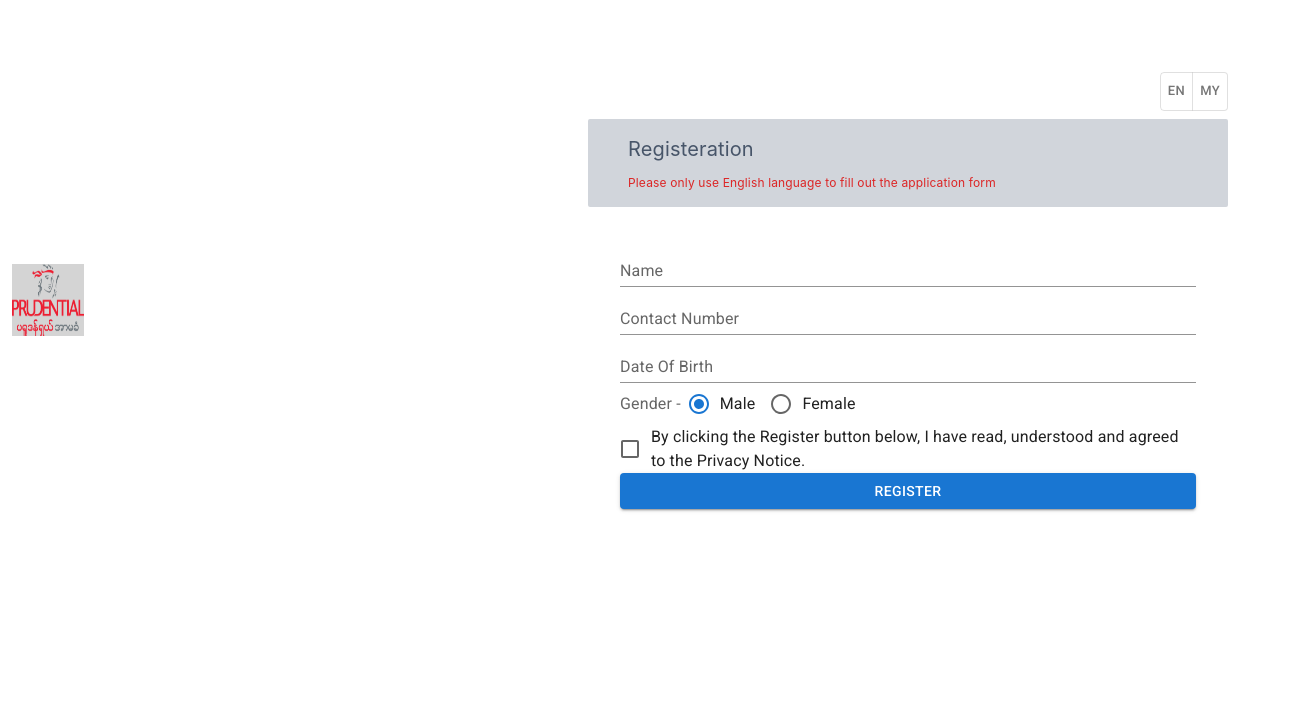
Test: Register › contactNumber should be at least 9 digits on form submit
In the field labelled "Contact Number": point(908, 319) [620,303,1196,335], type "95044879"
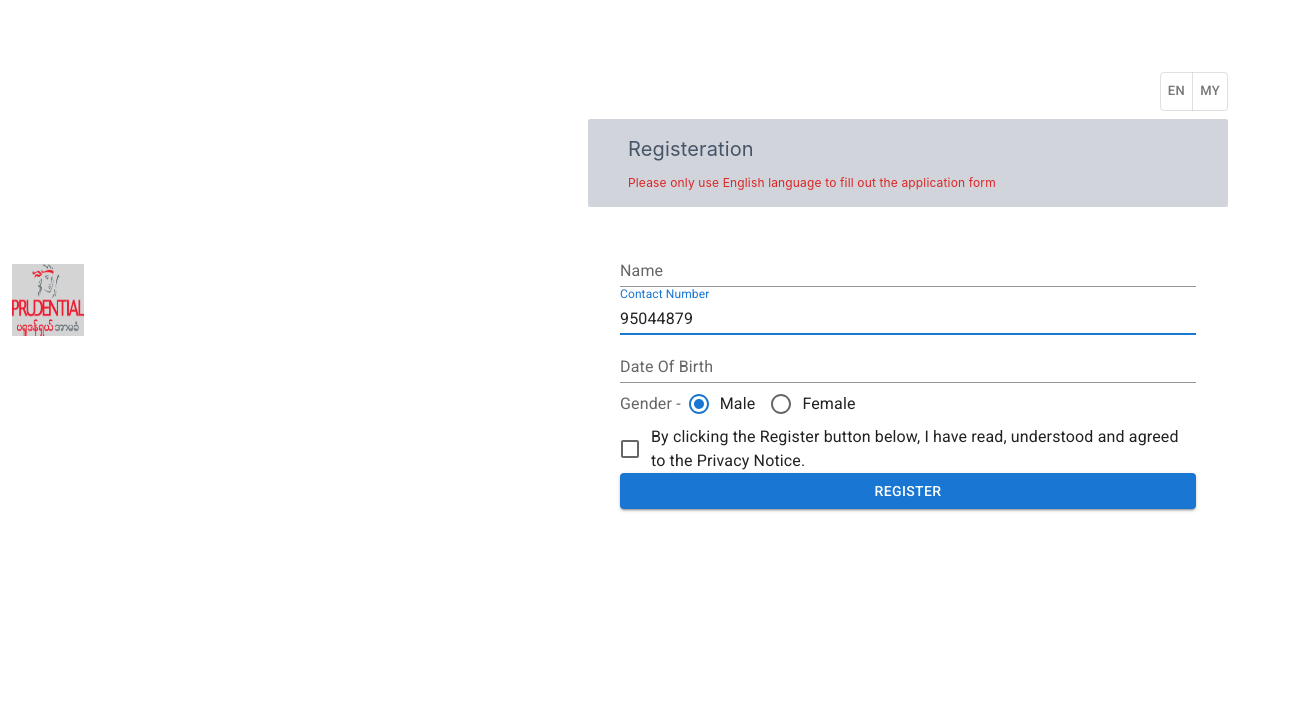
Click the button "Register": point(908, 491) [620,473,1196,509]
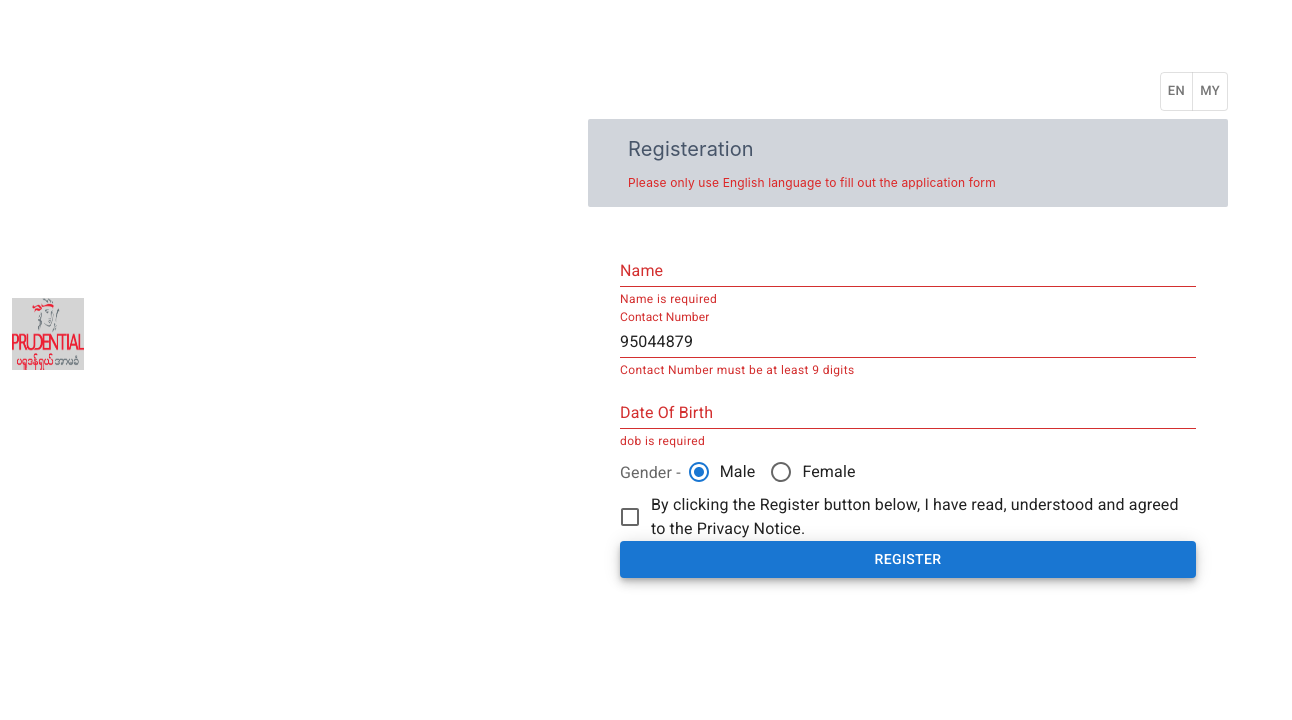
expect the text "Contact Number must be at least 9 digits" is shown: met, box [620,363,855,377]
